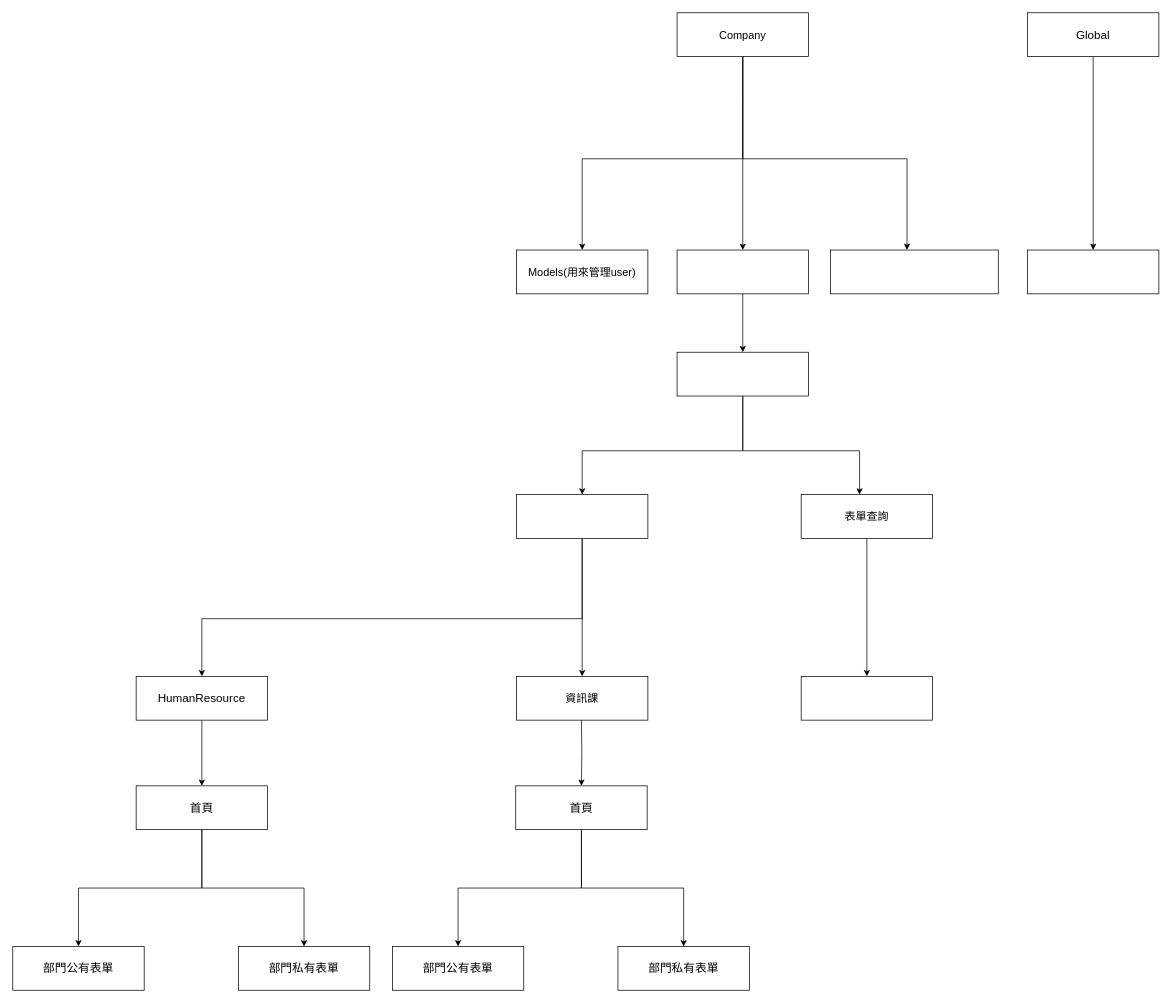
Image size: 1172x1003. Some labels were removed from this diagram. Each missing label, with the box of its shape:
admin(將權限設計於此): (830, 249, 998, 294)
個人表單: (800, 676, 933, 720)
公司的index: (676, 249, 808, 294)
表單全域模板: (1027, 249, 1159, 294)
表單專區: (676, 351, 808, 396)
表單申請: (516, 494, 648, 538)
